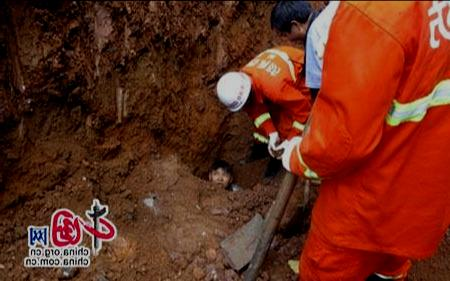no_helmet: (266, 1, 321, 42), (203, 157, 236, 191)
